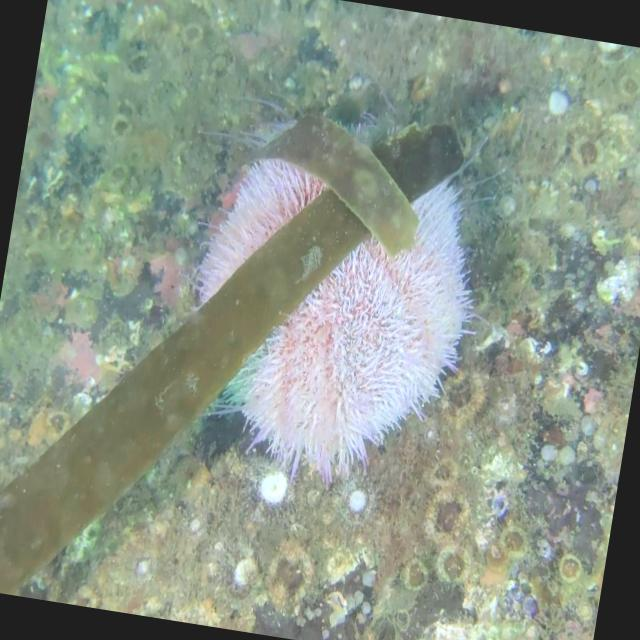Deniz Kestanesi: (154, 70, 522, 526)
